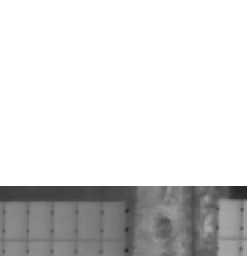solar: (216, 197, 245, 238), (1, 200, 30, 240), (25, 200, 54, 240), (51, 200, 80, 240), (75, 200, 104, 240), (100, 200, 129, 240)
